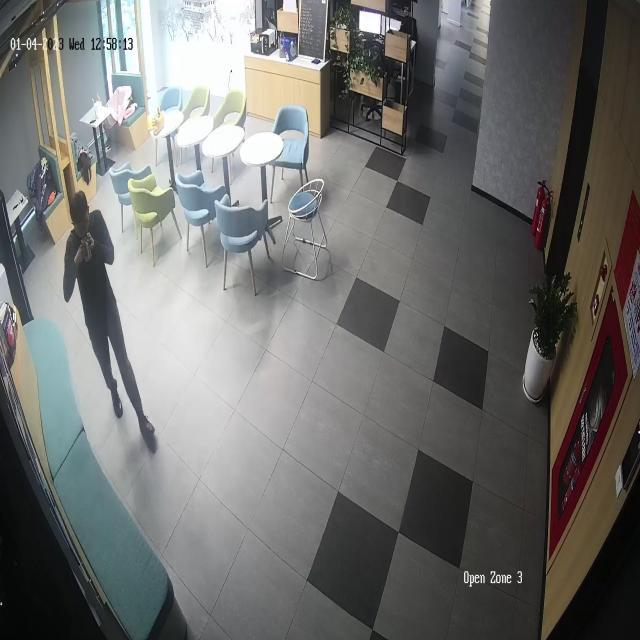person: (63, 190, 158, 453)
